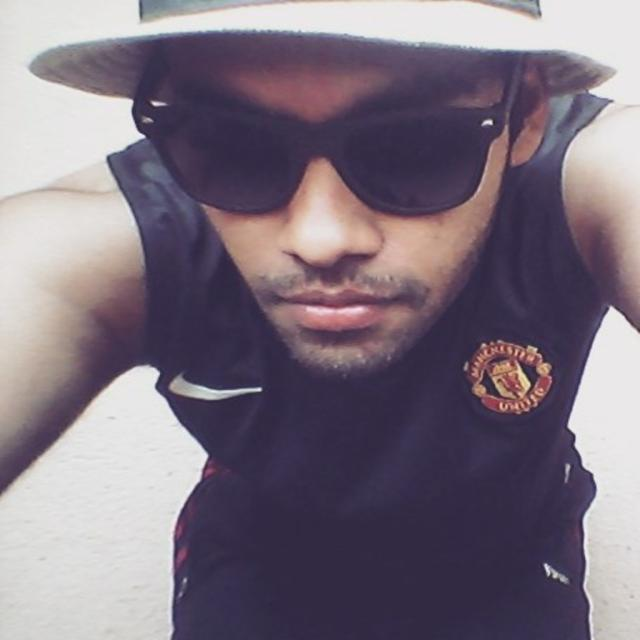Hat: (28, 0, 616, 98)
